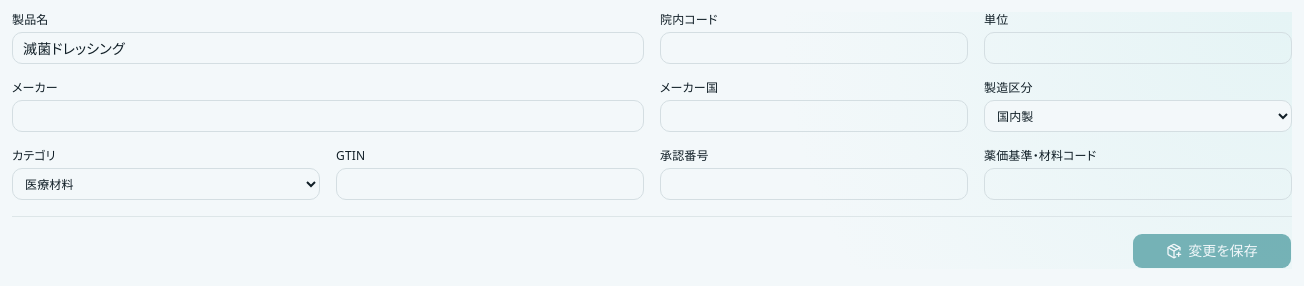
Scenario: ProductRegistrationForm › enables an edit submit button only while values differ from the initial product
Expected: the button "変更を保存" is disabled, [1132,233,1292,269]
Replace the text in the field labelled "製品名" with "滅菌ドレッシング 改訂版" at coordinates (328, 48), box [12,32,644,64]
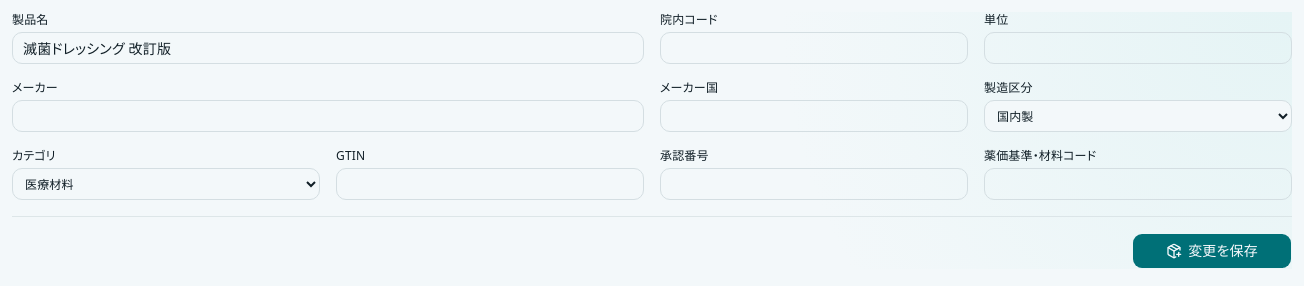
Expected: the button "変更を保存" is enabled, [1132,233,1292,269]
Replace the text in the field labelled "製品名" with "滅菌ドレッシング" at coordinates (328, 48), box [12,32,644,64]
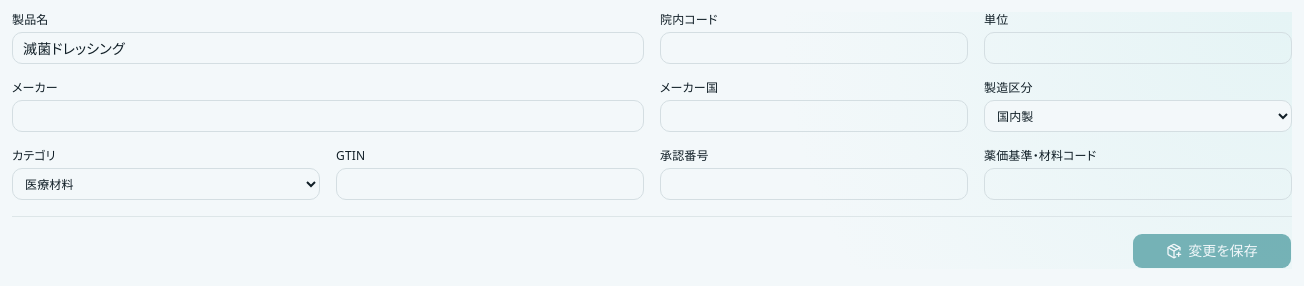
Expected: the button "変更を保存" is disabled, [1132,233,1292,269]
